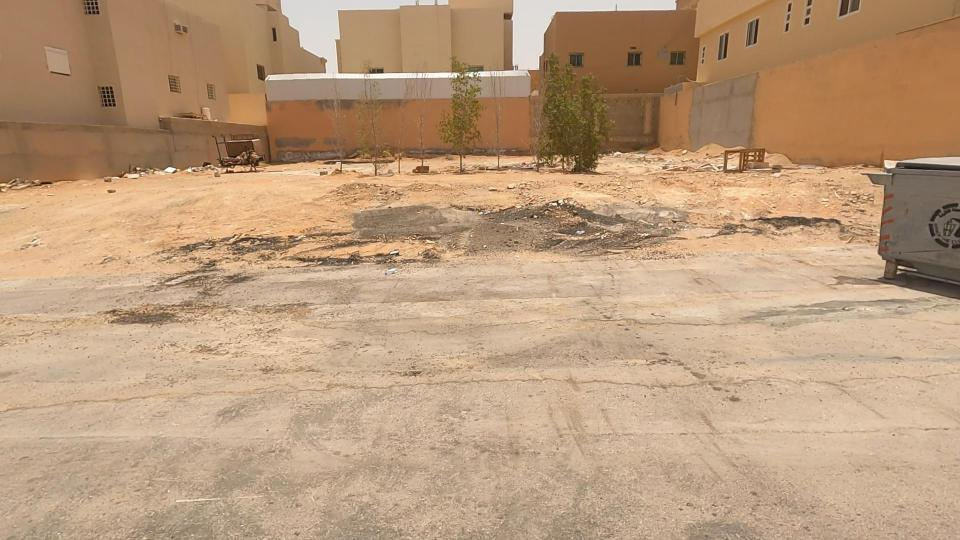GARBAGE: (79, 134, 159, 222), (116, 131, 205, 206), (154, 136, 239, 199)
